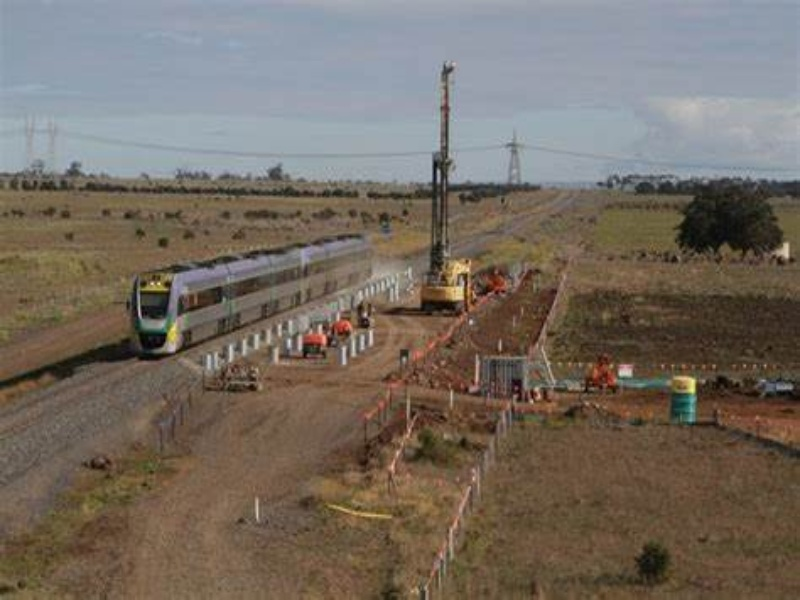crane: (416, 62, 473, 321)
